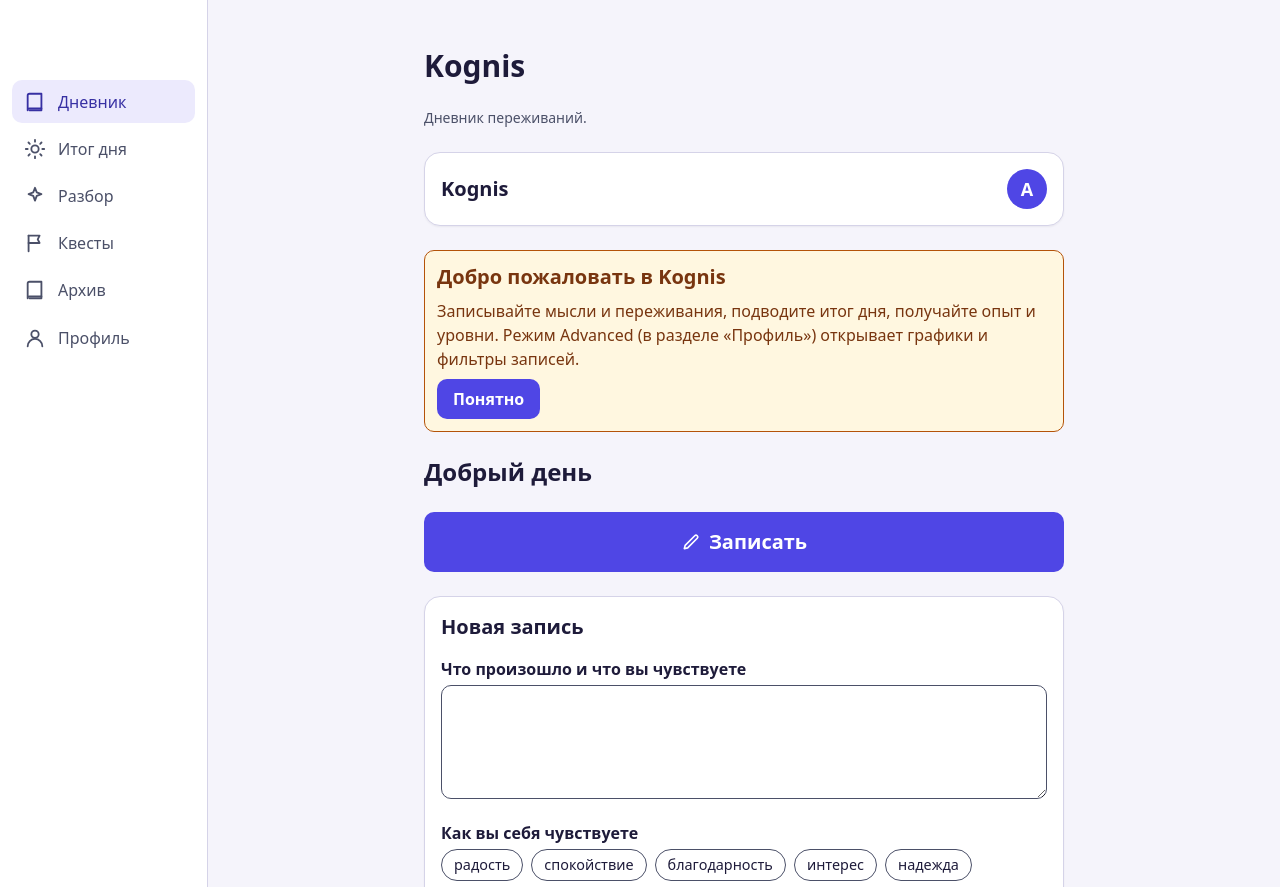
Test: язык профиля без словаря игнорируется
This screenshot has width=1280, height=887.
Click the button with test id "user-menu": (1027, 189) x1=1007 y1=169 x2=1047 y2=209
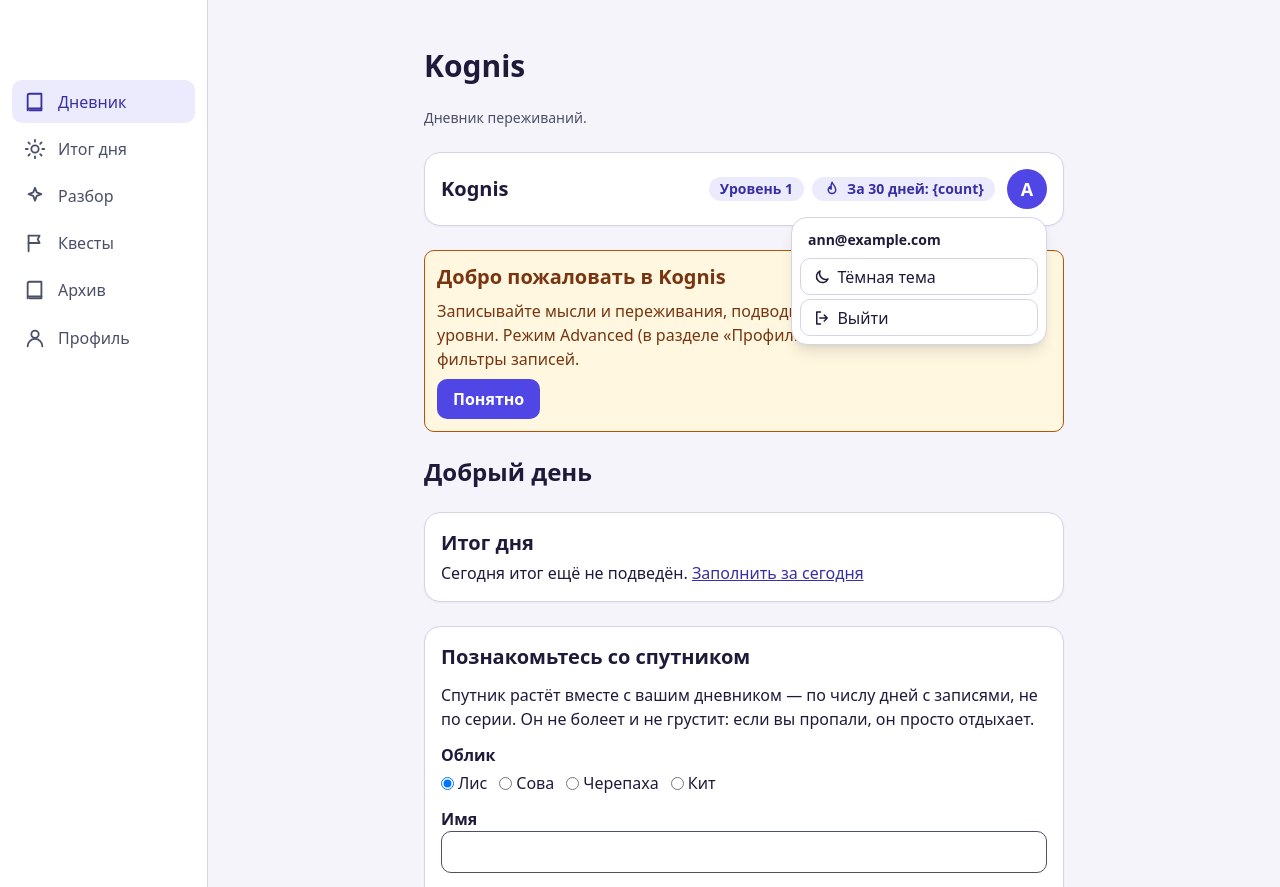
Result: the button "Выйти" is shown at x1=800 y1=299 x2=1038 y2=336
